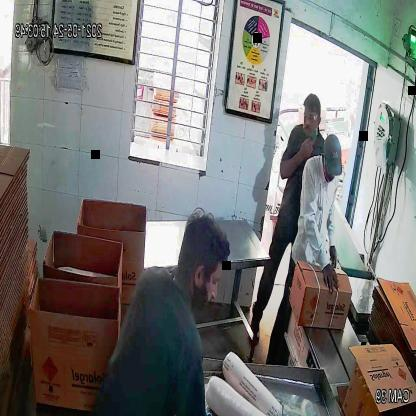goggles: (302, 112, 322, 126)
